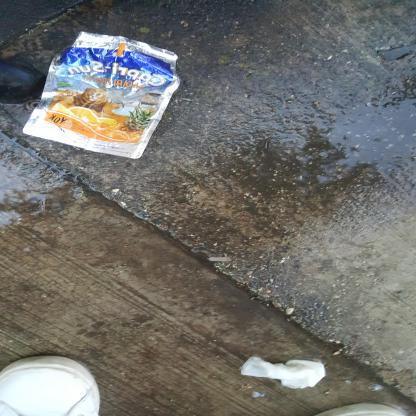kagit: (28, 239, 62, 328)
plastik: (258, 22, 386, 183)
